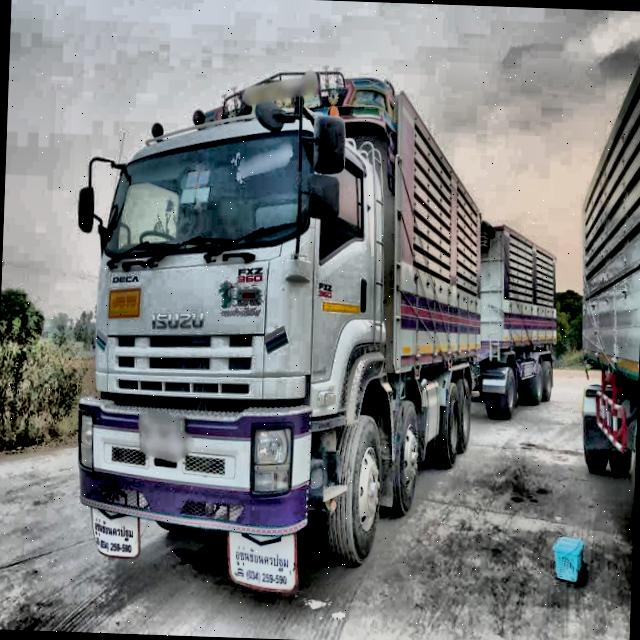trailer: (51, 38, 575, 598)
